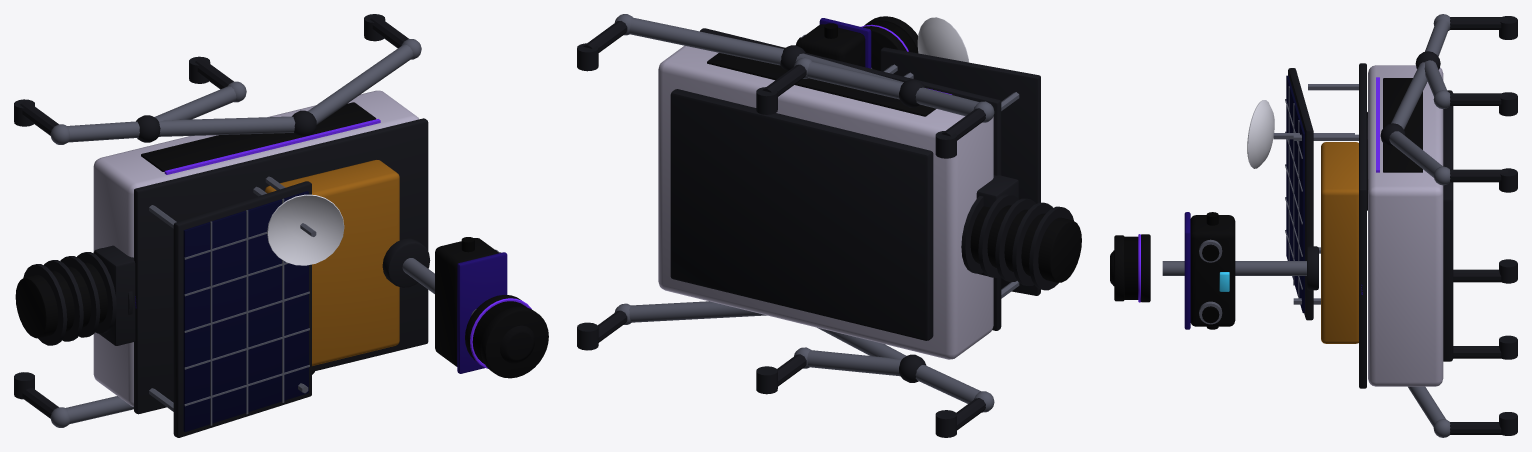
3 renders of one model, left to right at view 1: azimuth 30°, elevation 25°; view 2: azimuth 150°, elevation 25°; view 3: azimuth 270°, elevation 25°, orthographic. The views are drawn at different scales.
Parts seen in each view (by area): view 1: base; view 2: base; view 3: base.
Part boxes in pixels (x1=…): base: x1=14, y1=14, x2=548, y2=437; base: x1=577, y1=14, x2=1081, y2=437; base: x1=1110, y1=14, x2=1517, y2=437.
Size of the model in its own units: 0.427 by 0.297 by 0.4068.
